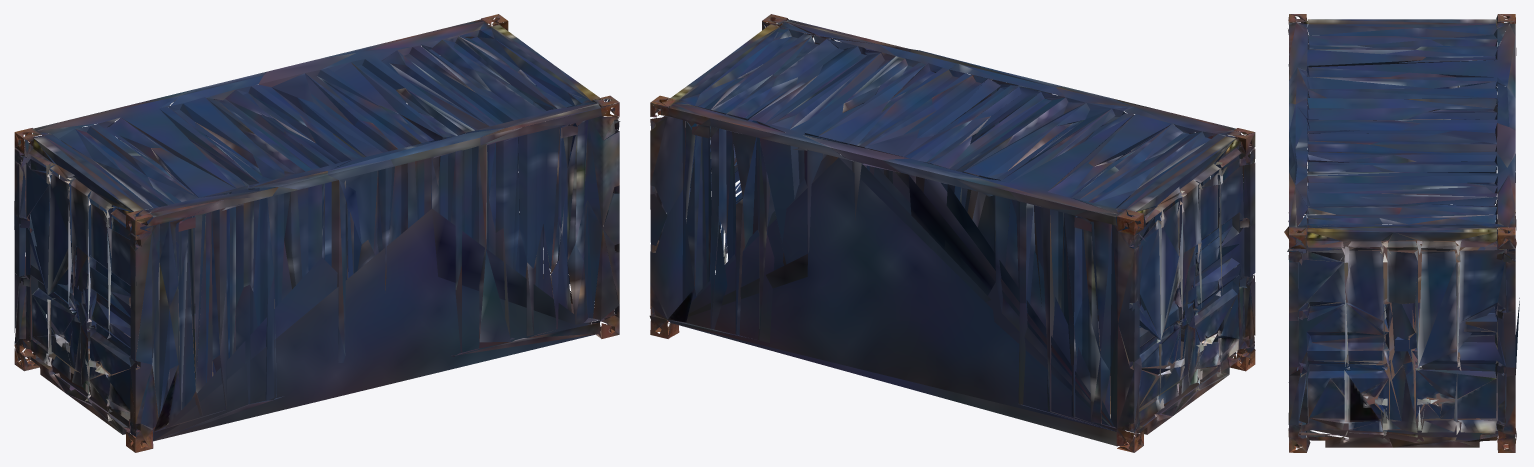
File: container_blue.glb
3 renders of one model, left to right at view 1: azimuth 30°, elevation 25°; view 2: azimuth 150°, elevation 25°; view 3: azimuth 270°, elevation 25°, orthographic. The views are drawn at different scales.
Parts seen in each view (by area): view 1: Mesh_0; view 2: Mesh_0; view 3: Mesh_0.
Part boxes in pixels (x1,y1,x2,y2): Mesh_0: [14, 14, 620, 452]; Mesh_0: [649, 14, 1255, 452]; Mesh_0: [1284, 14, 1519, 452].
Size of the model in its own units: 1.92 by 0.8875 by 0.8553.
Materials: 1 (1 with a texture image).
